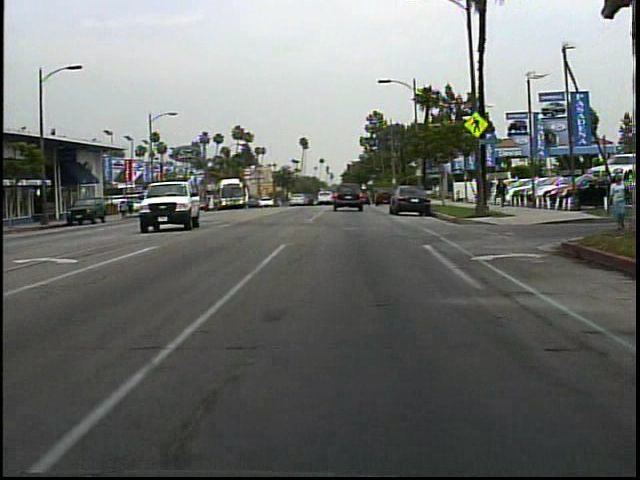person: (603, 167, 631, 233)
